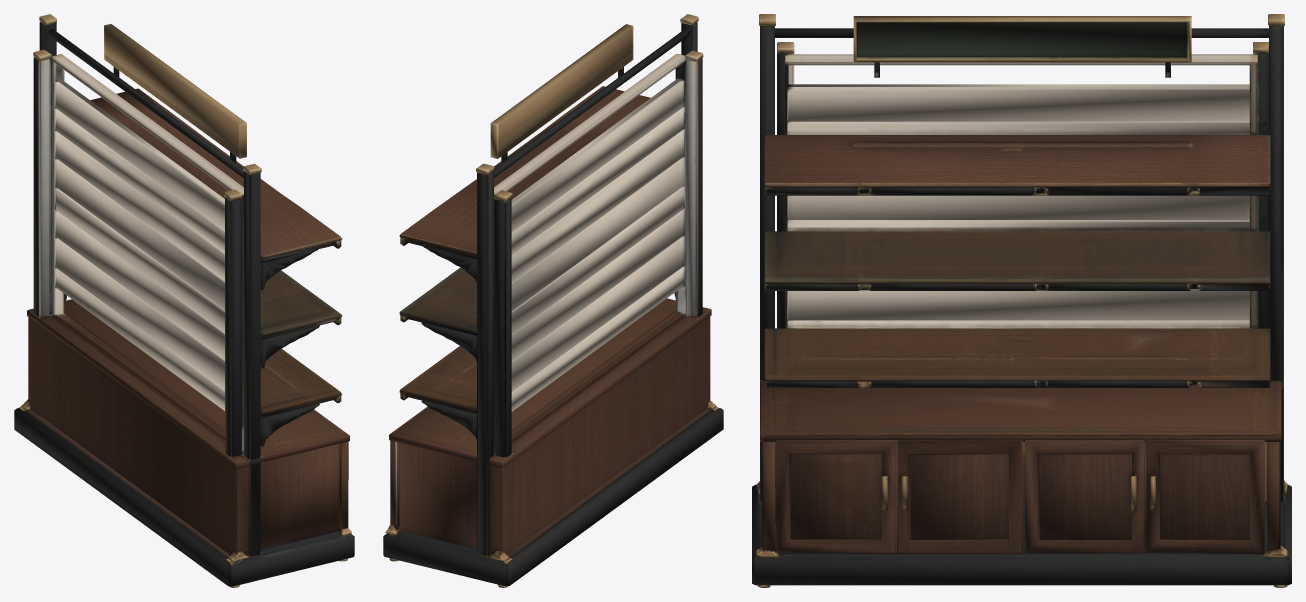
Rendered from modern+display+shelf+3d+model.glb.
3 renders of one model, left to right at view 1: azimuth 30°, elevation 25°; view 2: azimuth 150°, elevation 25°; view 3: azimuth 270°, elevation 25°, orthographic. The views are drawn at different scales.
Visible parts, largest first — view 1: tripo_node_5833994d-ae9b-436f-9b2d-6c9c41ce1f12; view 2: tripo_node_5833994d-ae9b-436f-9b2d-6c9c41ce1f12; view 3: tripo_node_5833994d-ae9b-436f-9b2d-6c9c41ce1f12.
Part boxes in pixels (x1,y1,x2,y2): tripo_node_5833994d-ae9b-436f-9b2d-6c9c41ce1f12: (14, 14, 354, 587); tripo_node_5833994d-ae9b-436f-9b2d-6c9c41ce1f12: (383, 14, 723, 587); tripo_node_5833994d-ae9b-436f-9b2d-6c9c41ce1f12: (752, 14, 1291, 587).
Size of the model in its own units: 0.3145 by 0.998 by 0.9238.
Materials: 1 (1 with a texture image).
